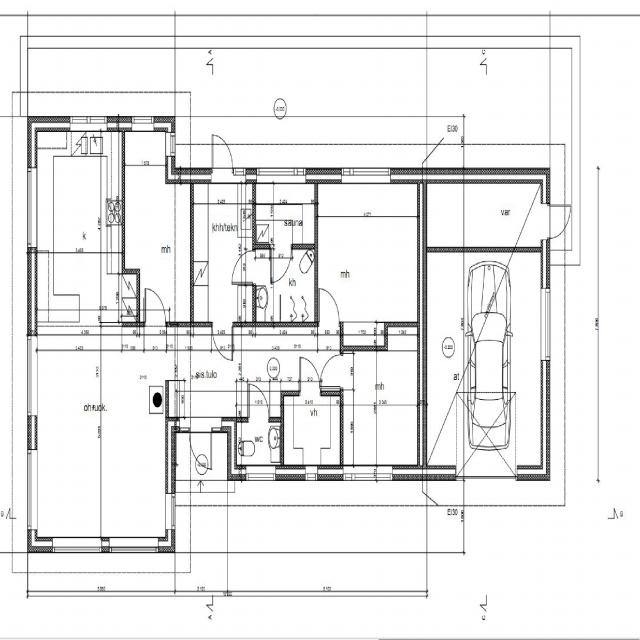door: (189, 416, 212, 469), (212, 134, 232, 183), (541, 206, 570, 238), (318, 288, 339, 326), (270, 244, 291, 282), (320, 354, 343, 388), (212, 322, 233, 359), (300, 357, 320, 395), (145, 288, 165, 326), (249, 383, 269, 421), (232, 251, 255, 284)
